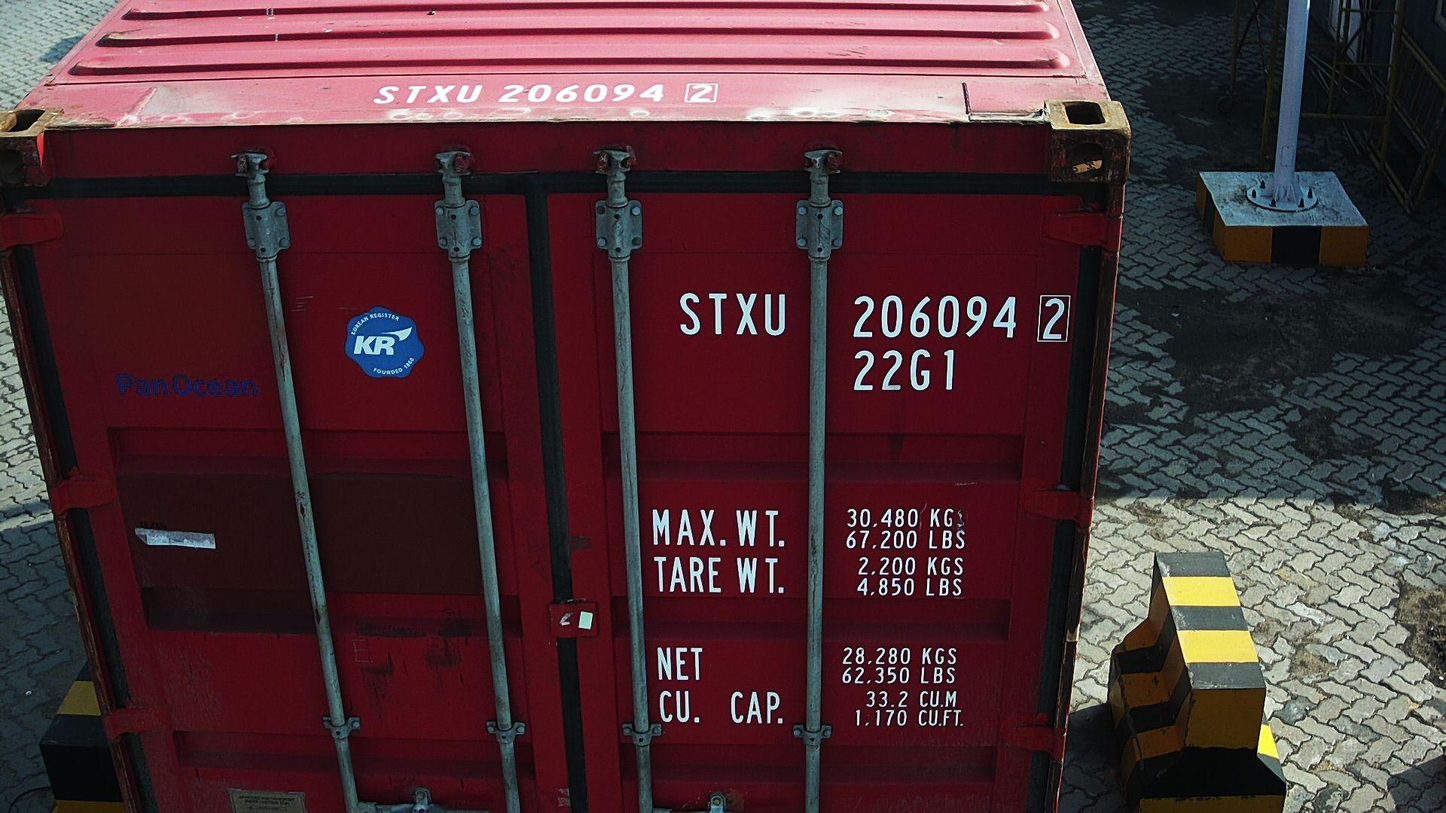container-numbers: (674, 289, 1076, 346), (371, 78, 725, 107), (849, 346, 960, 395)
